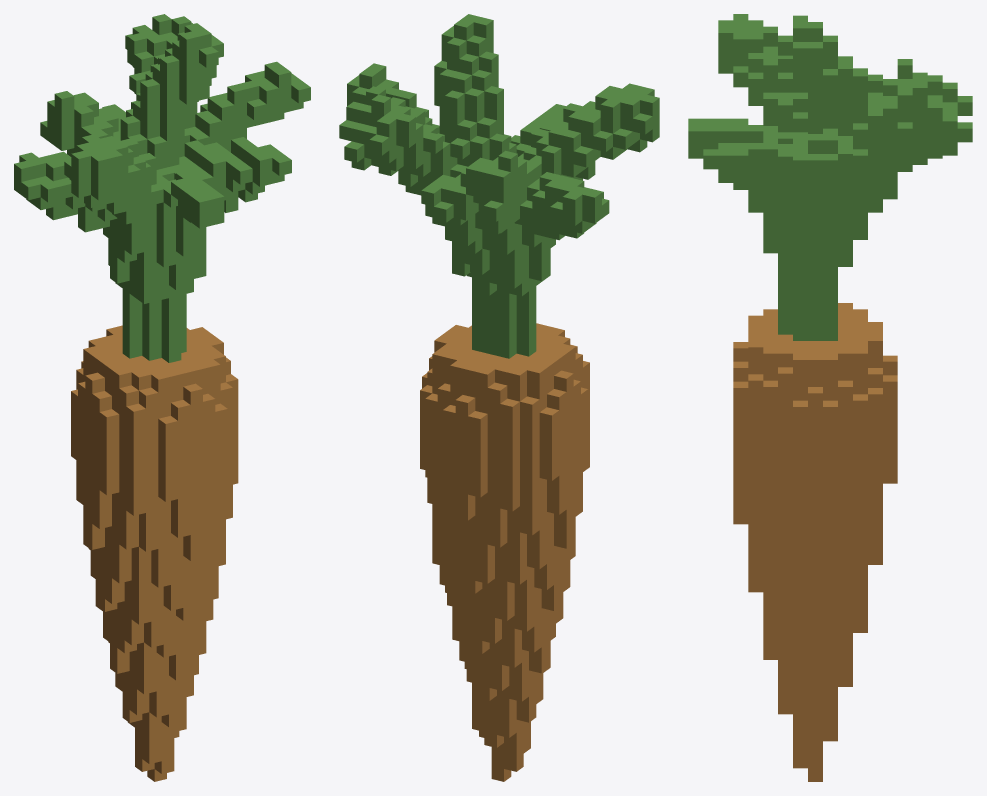
The model's file is Carrot.fbx.
The picture shows the model from 3 angles, left to right: view 1: azimuth 30°, elevation 25°; view 2: azimuth 150°, elevation 25°; view 3: azimuth 270°, elevation 25°; orthographic projection. The views are drawn at different scales.
Parts seen in each view (by area): view 1: Carrot; view 2: Carrot; view 3: Carrot.
Boxes of the visible parts, x1=… form: Carrot: x1=14, y1=14, x2=310, y2=781; Carrot: x1=339, y1=14, x2=659, y2=781; Carrot: x1=688, y1=14, x2=972, y2=781.
Size of the model in its own units: 61.35 by 167 by 55.51.
